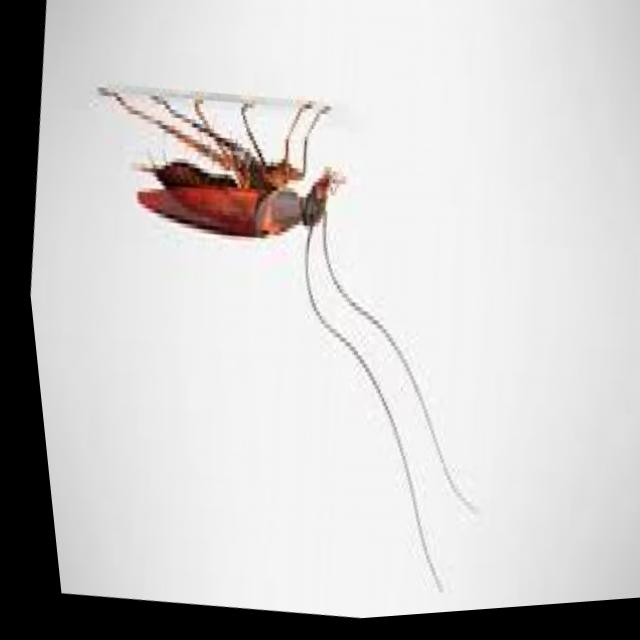Cockroach: (54, 36, 386, 380)
